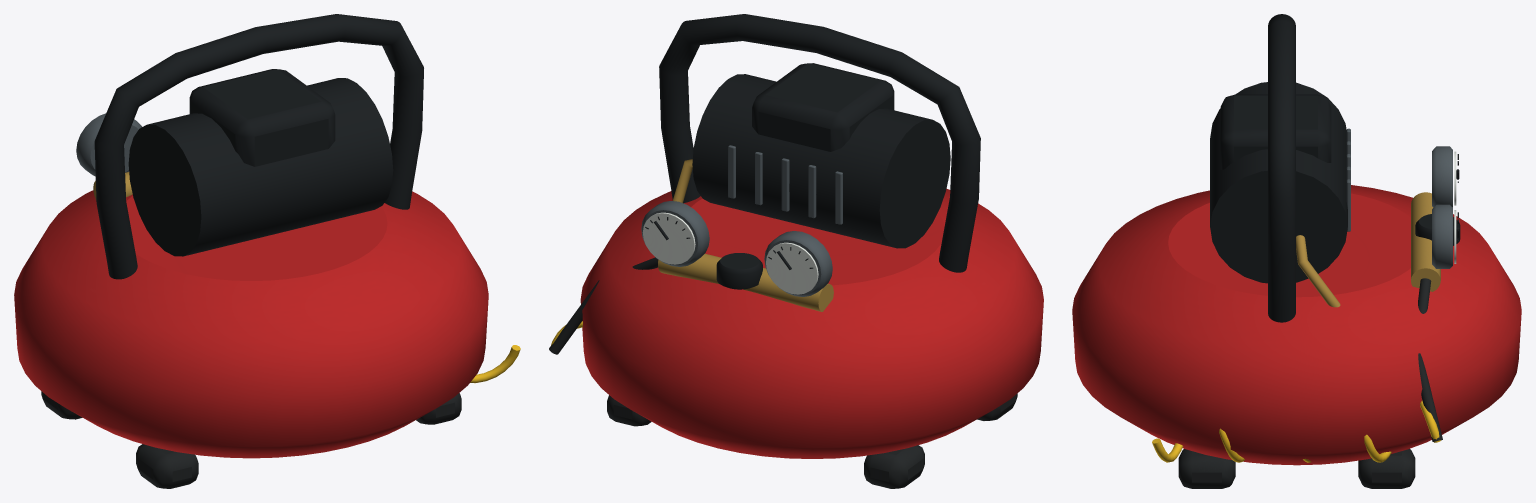
Rendered from AirCompressor.fbx.
The picture shows the model from 3 angles, left to right: view 1: azimuth 30°, elevation 25°; view 2: azimuth 150°, elevation 25°; view 3: azimuth 270°, elevation 25°; orthographic projection. The views are drawn at different scales.
Parts seen in each view (by area): view 1: AirCompressor__Body; view 2: AirCompressor__Body; view 3: AirCompressor__Body.
Boxes of the visible parts, left/top/right/bottom form: AirCompressor__Body: left=14, top=14, right=520, bottom=488; AirCompressor__Body: left=549, top=14, right=1043, bottom=488; AirCompressor__Body: left=1072, top=14, right=1521, bottom=488.
Size of the model in its own units: 42.02 by 38.23 by 42.
Materials: 1 (1 with a texture image).
